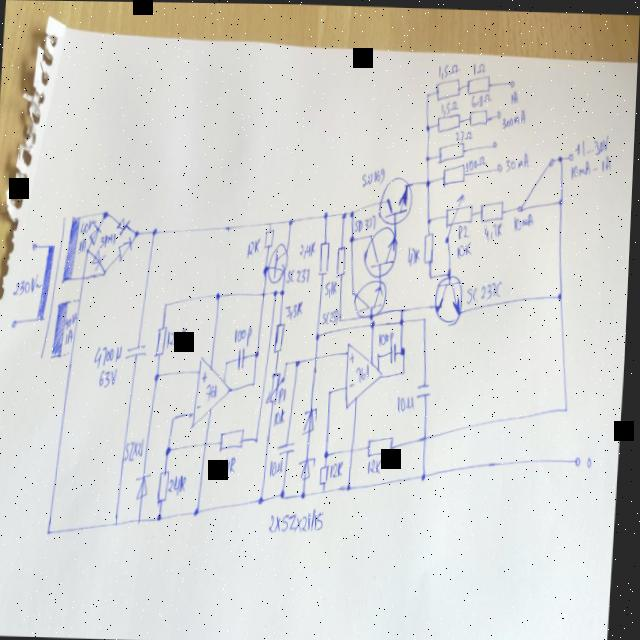capacitor: (127, 340, 150, 358), (280, 439, 299, 453), (418, 380, 433, 397), (239, 343, 248, 370), (391, 337, 400, 362)
crossover: (424, 431, 430, 441), (263, 287, 268, 298), (82, 272, 88, 280), (353, 443, 358, 452), (316, 352, 321, 361), (207, 438, 212, 446)
diode: (118, 232, 136, 262), (303, 404, 321, 434), (137, 471, 155, 500), (301, 454, 320, 479), (115, 214, 134, 234), (91, 222, 102, 246), (94, 249, 106, 269)
junction: (168, 443, 176, 455), (283, 485, 290, 498), (447, 265, 455, 276), (156, 369, 163, 381), (152, 224, 159, 236), (349, 231, 356, 243), (371, 314, 378, 326), (264, 261, 271, 273), (261, 492, 268, 504), (197, 504, 204, 516), (425, 175, 432, 186), (401, 343, 408, 354), (160, 510, 167, 521), (558, 288, 565, 299), (135, 227, 142, 238), (304, 487, 310, 499), (559, 193, 565, 205), (424, 468, 430, 480), (565, 401, 572, 411), (289, 215, 296, 225), (326, 447, 333, 457), (103, 209, 110, 219), (425, 150, 431, 161), (324, 207, 330, 218), (50, 524, 56, 535), (558, 151, 564, 162), (217, 290, 223, 301), (316, 329, 323, 338), (281, 286, 288, 295), (427, 215, 434, 224), (425, 120, 431, 130), (297, 356, 303, 366), (349, 480, 355, 490), (423, 312, 429, 322), (342, 208, 348, 218), (274, 286, 280, 296), (401, 303, 407, 313), (428, 270, 435, 278), (403, 366, 409, 375), (378, 349, 383, 359), (103, 267, 109, 275), (256, 347, 261, 356), (330, 385, 335, 394), (141, 515, 146, 524), (174, 412, 179, 421), (286, 357, 291, 365), (72, 349, 77, 357), (227, 356, 231, 365), (80, 296, 84, 305), (425, 89, 430, 96), (257, 434, 261, 442), (165, 299, 169, 307), (118, 518, 122, 526), (87, 246, 91, 254), (325, 485, 329, 493), (254, 378, 258, 385), (270, 219, 274, 225)
resistor: (443, 190, 474, 242), (369, 430, 398, 458), (441, 158, 468, 186), (267, 369, 287, 406), (438, 138, 465, 165), (434, 74, 461, 100), (222, 426, 248, 450), (480, 197, 505, 221), (465, 72, 492, 94), (160, 466, 174, 506), (423, 228, 439, 262), (156, 322, 171, 358), (437, 111, 462, 131), (319, 237, 331, 273), (336, 242, 348, 277), (275, 319, 287, 351), (468, 107, 489, 124), (265, 227, 276, 249), (323, 462, 333, 484)
switch: (490, 77, 559, 211)
terminal: (576, 451, 586, 465), (33, 239, 39, 250), (14, 317, 20, 327), (568, 149, 574, 159)
text: (272, 506, 329, 535), (571, 151, 612, 180), (467, 276, 504, 303), (574, 129, 609, 156), (14, 270, 45, 296), (96, 342, 125, 367), (502, 148, 531, 169), (398, 391, 421, 415), (501, 106, 526, 128), (361, 164, 386, 185), (127, 436, 148, 460), (288, 263, 312, 283), (437, 58, 460, 78), (101, 364, 121, 387), (169, 325, 190, 345), (514, 210, 535, 229), (356, 212, 377, 231), (465, 152, 487, 170), (220, 454, 239, 474), (171, 473, 190, 493), (484, 219, 503, 239), (379, 327, 398, 347), (288, 298, 306, 318), (237, 324, 255, 343), (471, 90, 492, 106), (323, 306, 341, 324), (248, 234, 262, 257), (272, 456, 287, 477), (454, 126, 475, 141), (301, 238, 317, 257), (440, 97, 459, 113), (358, 361, 374, 380), (458, 236, 473, 256), (326, 275, 340, 296), (101, 230, 118, 247), (370, 454, 386, 472), (408, 243, 421, 265), (333, 458, 348, 477), (80, 217, 96, 234), (208, 381, 221, 401), (276, 406, 289, 423), (471, 59, 486, 73), (458, 221, 470, 238), (68, 312, 80, 328), (282, 384, 291, 401), (510, 87, 519, 103), (67, 327, 75, 344), (80, 237, 88, 253), (589, 453, 596, 467), (204, 368, 210, 382), (352, 350, 357, 361), (352, 381, 358, 389), (199, 402, 205, 408)
thyristor: (266, 239, 291, 279)
transistor: (378, 173, 415, 224), (433, 268, 466, 324), (365, 227, 399, 272), (355, 277, 389, 315)
